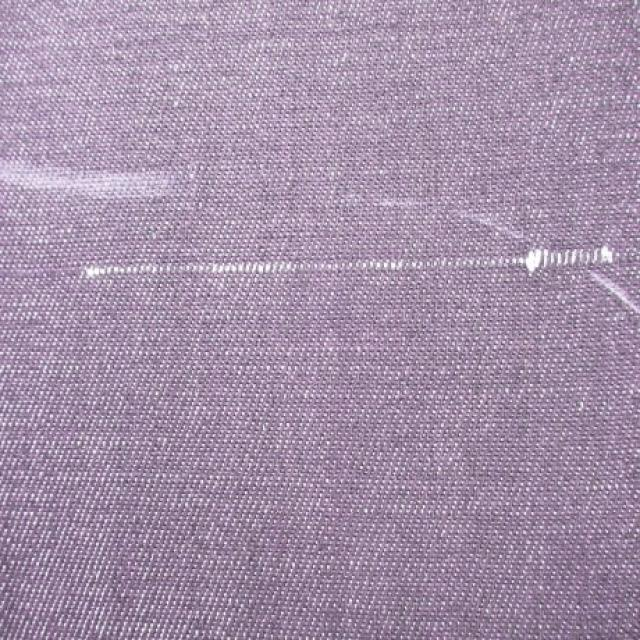Thread_other: (60, 210, 640, 341)
